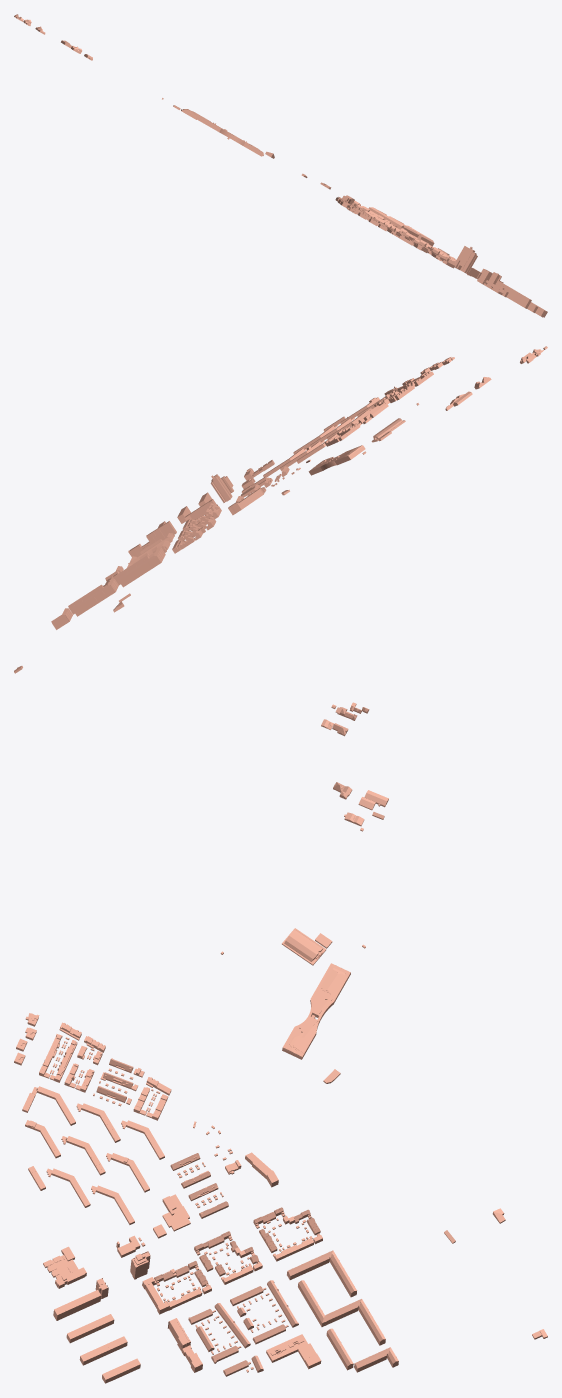
3 renders of one model, top to bottom at view 1: azimuth 30°, elevation 25°; view 2: azimuth 150°, elevation 25°; view 3: azimuth 270°, elevation 25°, orthographic. The views are drawn at different scales.
Bounding box in the file's own units: 3.3e+07 × 2.42e+07 × 2.8e+07.
